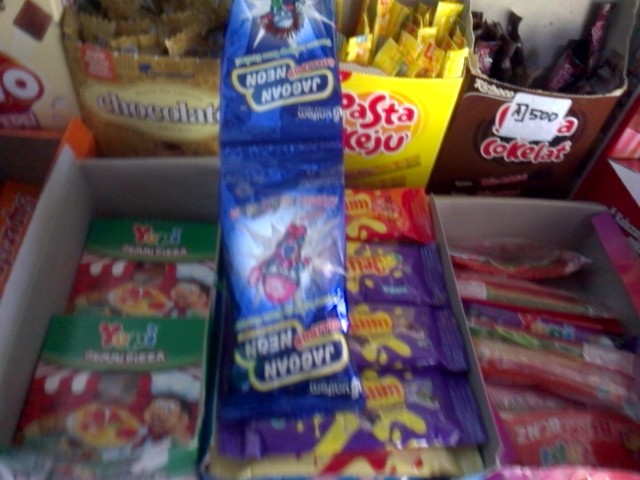jagoan neon: (219, 143, 361, 426), (220, 1, 344, 156)
